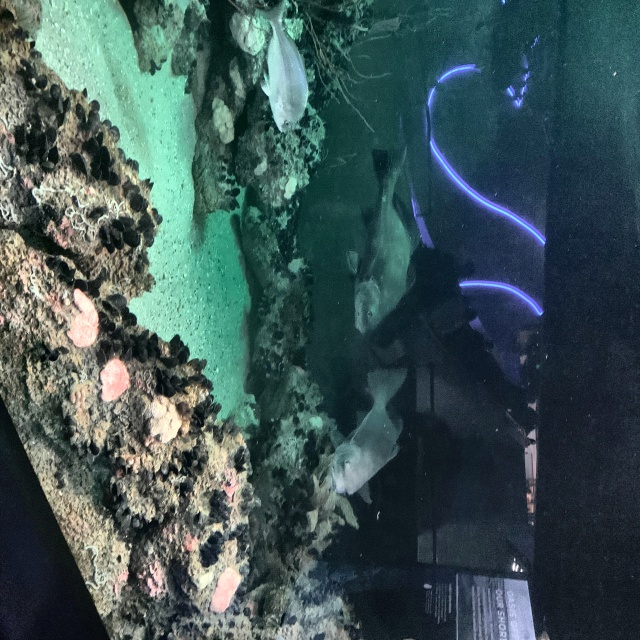fish: (339, 146, 423, 336), (325, 367, 412, 499), (258, 1, 308, 133)
